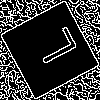L: (25, 25, 79, 72)
